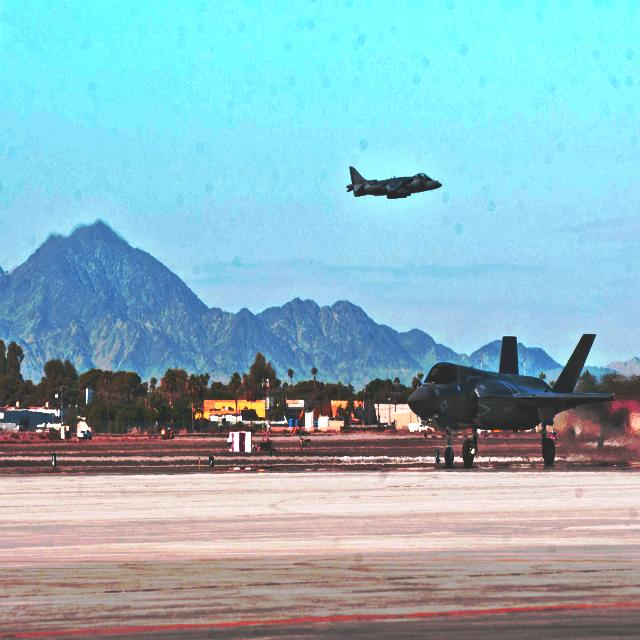Aircraft: (401, 333, 618, 468), (345, 166, 444, 200)
